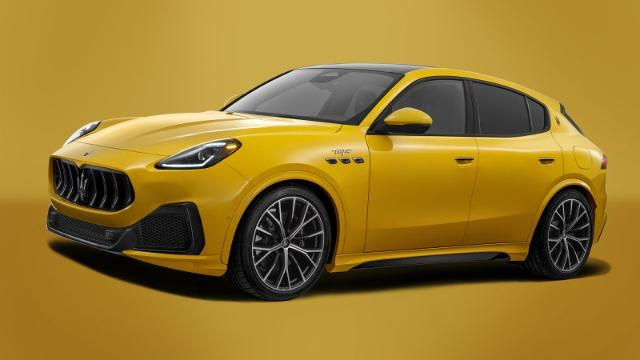maserati: (47, 63, 609, 301)
